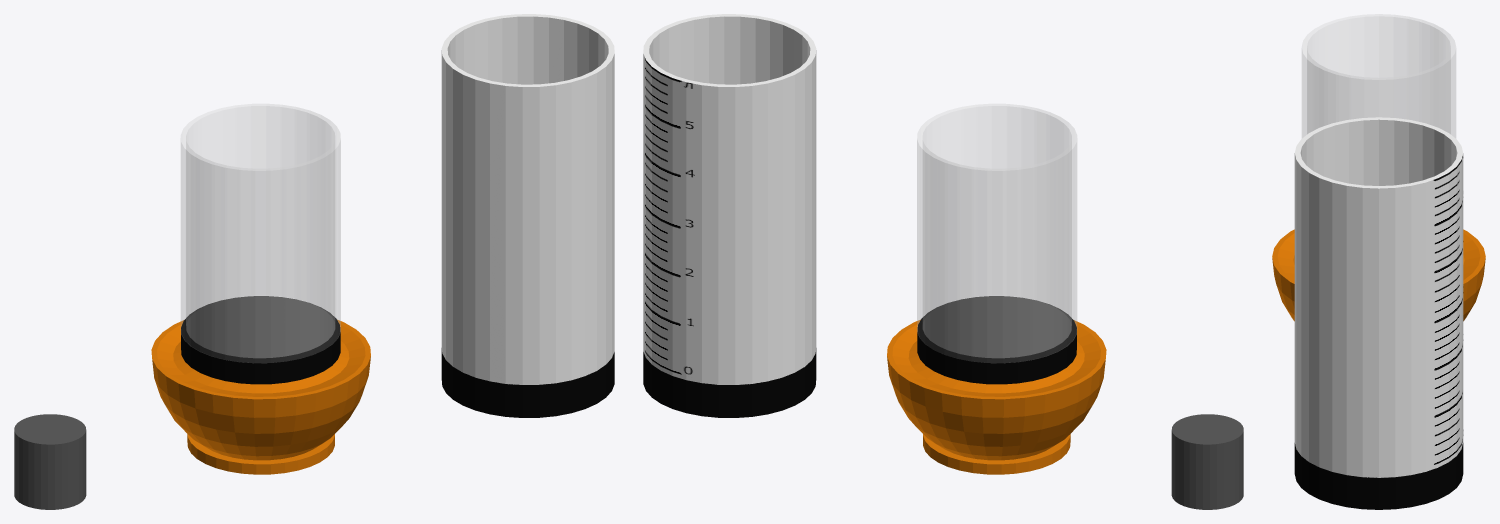
Rendered from virt_scene.fbx.
3 views of the same model, side by side, from view 1: azimuth 30°, elevation 25°; view 2: azimuth 150°, elevation 25°; view 3: azimuth 270°, elevation 25° (orthographic). The views are drawn at different scales.
Visible parts, largest first — view 1: Цилиндр.002, Цилиндр.006, Цилиндр.004, Цилиндр.005, Цилиндр.001, Цилиндр.003; view 2: Цилиндр.002, Цилиндр.006, Цилиндр.004, Цилиндр.005, Цилиндр.001, Цилиндр.003; view 3: Цилиндр.002, Цилиндр.006, Цилиндр.003, Цилиндр.004.
Part boxes in pixels (x1,y1,x2,y2): Цилиндр.002: (441,14,614,384); Цилиндр.006: (181,104,340,362); Цилиндр.004: (151,320,370,474); Цилиндр.005: (181,296,340,384); Цилиндр.001: (14,414,86,509); Цилиндр.003: (441,348,614,417); Цилиндр.002: (643,14,816,384); Цилиндр.006: (917,104,1076,362); Цилиндр.004: (887,320,1106,474); Цилиндр.005: (917,296,1076,384); Цилиндр.001: (1171,414,1243,509); Цилиндр.003: (643,348,816,417); Цилиндр.002: (1294,117,1463,477); Цилиндр.006: (1302,14,1455,137); Цилиндр.003: (1294,443,1463,509); Цилиндр.004: (1272,229,1485,321).
Bounding box in the file's own units: 6.13 × 3.32 × 2.
Materials: 5 (1 with a texture image).
